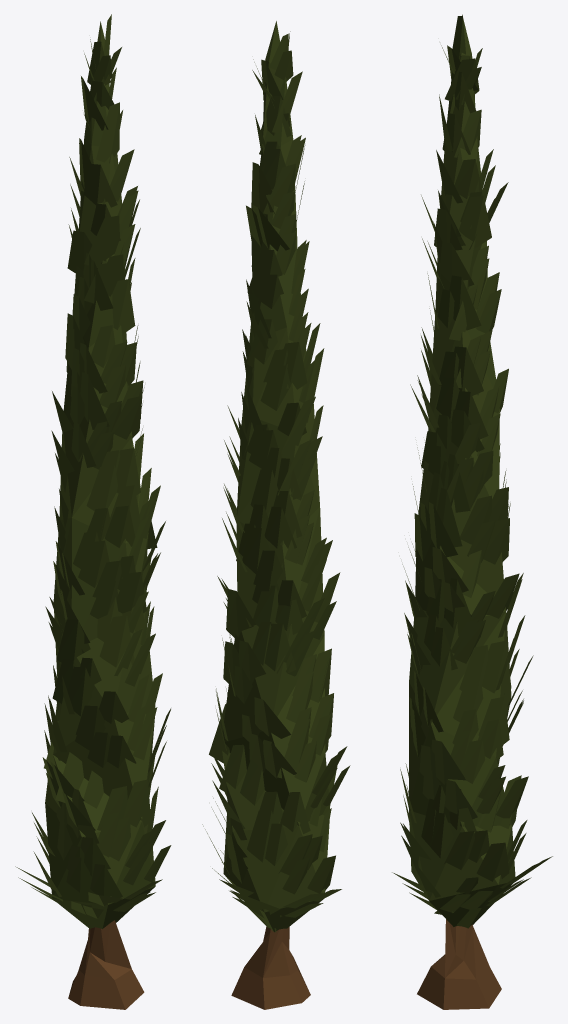
The model's file is tree-cypress-mature-b.gltf.
3 views of the same model, side by side, from view 1: azimuth 30°, elevation 25°; view 2: azimuth 150°, elevation 25°; view 3: azimuth 270°, elevation 25° (orthographic).
Parts seen in each view (by area): view 1: tree-cypress-mature-b; view 2: tree-cypress-mature-b; view 3: tree-cypress-mature-b.
Part boxes in pixels (x1,y1,x2,y2): tree-cypress-mature-b: (15, 14, 171, 1009); tree-cypress-mature-b: (202, 21, 350, 1009); tree-cypress-mature-b: (392, 14, 552, 1009).
Bounding box in the file's own units: 0.0137 × 0.0921 × 0.0144.
